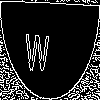W: (25, 25, 50, 72)
